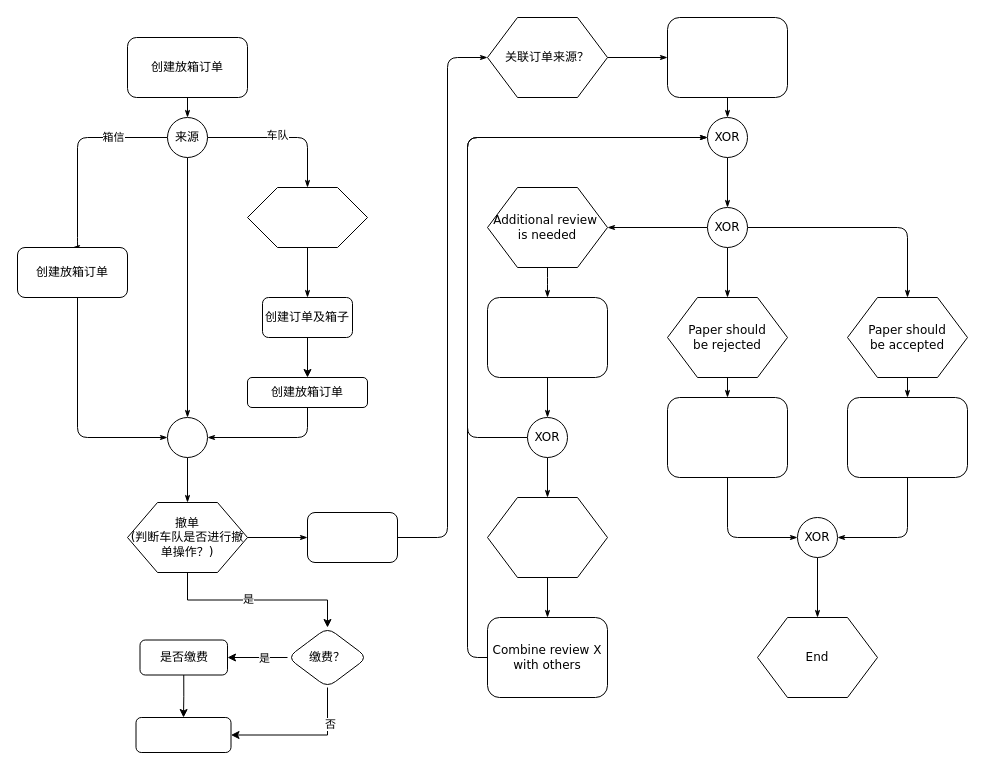
Image size: 985x770. Some labels were removed from this diagram. The centre of each missing label's shape, as x and y in pixels:
Accept paper: the point at 907,437
Decide on acceptance: the point at 727,57
Invite additional reviewer: the point at 547,337
Reject paper: the point at 727,437
Review X was received: the point at 547,537
关联；分清关联类型: the point at 187,437
换单员接单: the point at 352,537
结束: the point at 183,734
钱包管理？下单限制: the point at 307,217
